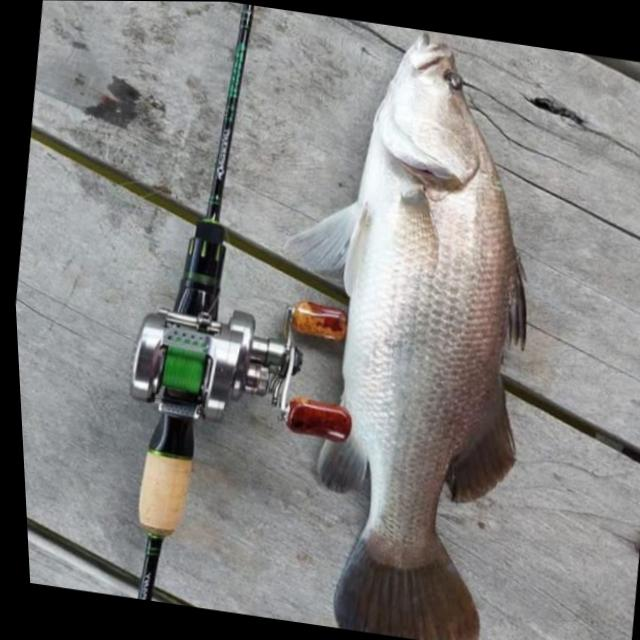Seabass: (218, 13, 582, 640)
